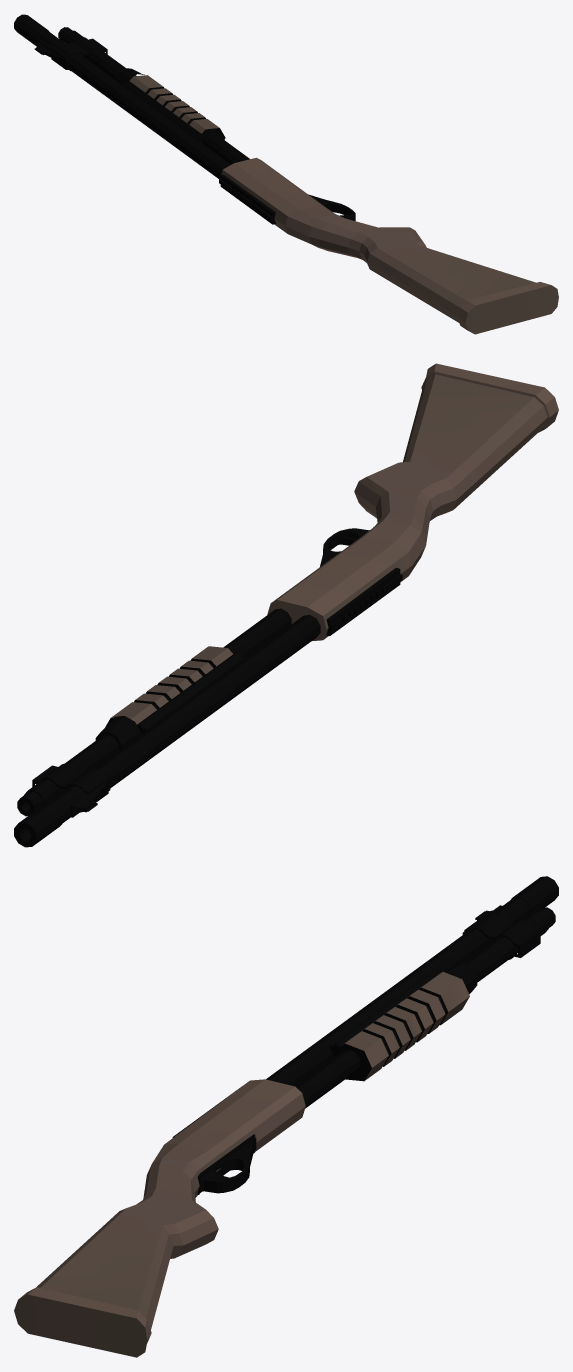
The model's file is Shotgun-CkSFaW2d7m.glb.
3 views of the same model, one above another, from view 1: azimuth 30°, elevation 25°; view 2: azimuth 150°, elevation 25°; view 3: azimuth 330°, elevation 25° (orthographic). The views are drawn at different scales.
Parts seen in each view (by area): view 1: Shotgun; view 2: Shotgun; view 3: Shotgun.
Part boxes in pixels (box(x1,y1,x2,y2)): Shotgun: box(14, 14, 558, 334); Shotgun: box(14, 363, 558, 847); Shotgun: box(14, 876, 558, 1357).
Bounding box in the file's own units: 0.407 × 0.0847 × 2.14.
1 material, 1 textured.
